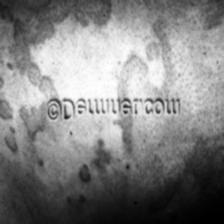Toxin: (96, 140, 114, 168), (0, 97, 13, 122)
